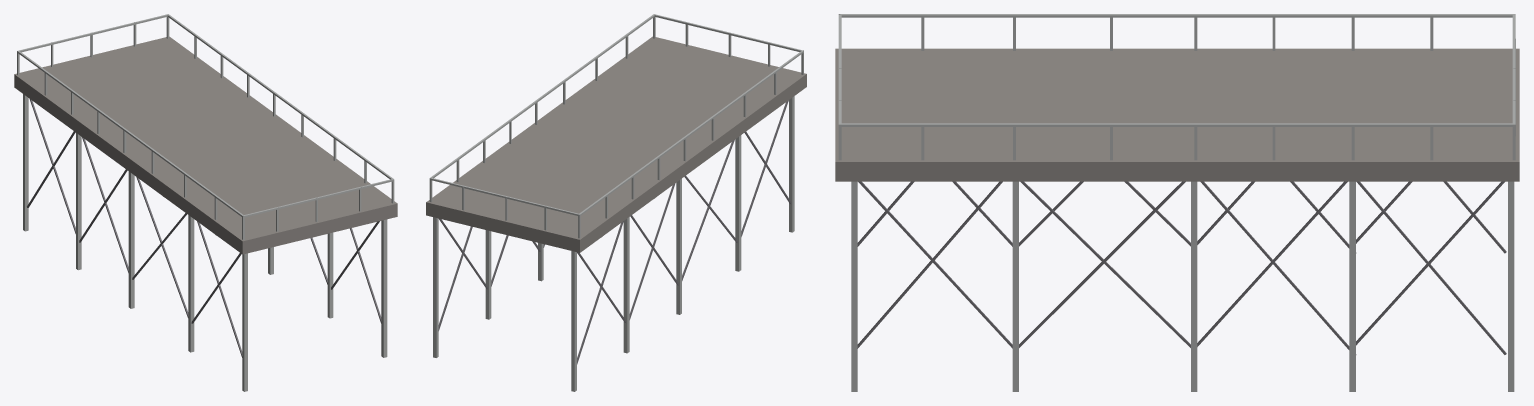
File: handrail.fbx
The picture shows the model from 3 angles, left to right: view 1: azimuth 30°, elevation 25°; view 2: azimuth 150°, elevation 25°; view 3: azimuth 270°, elevation 25°; orthographic projection. The views are drawn at different scales.
Parts seen in each view (by area): view 1: handrail; view 2: handrail; view 3: handrail.
Boxes of the visible parts, x1,y1,x2,y2 form: handrail: (14,14,397,391); handrail: (426,14,806,391); handrail: (835,14,1519,391).
Size of the model in its own units: 76.01 by 84.34 by 194.
